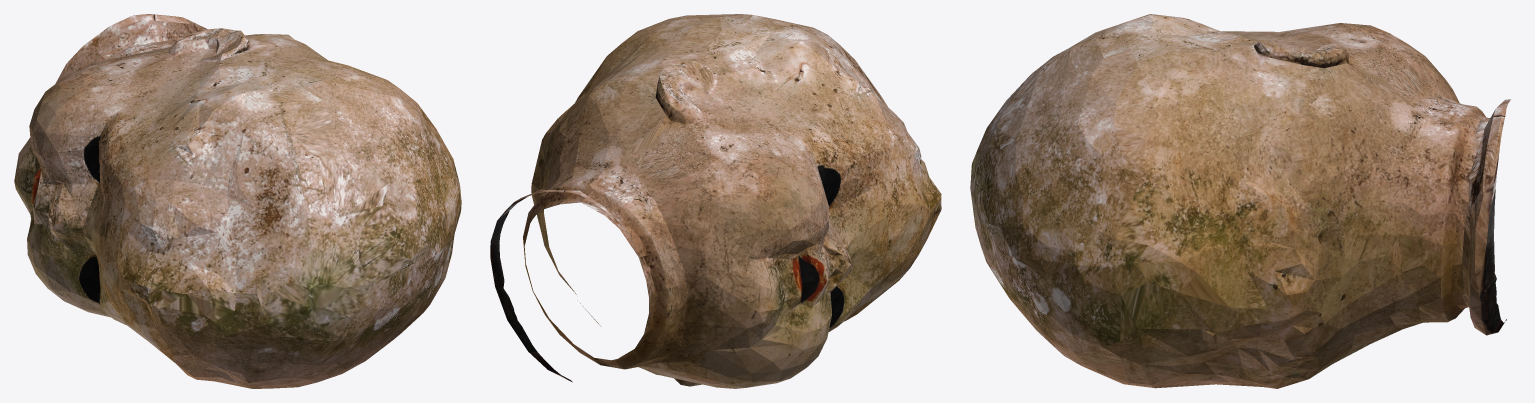
The model's file is dollhead.gltf.
The picture shows the model from 3 angles, left to right: view 1: azimuth 30°, elevation 25°; view 2: azimuth 150°, elevation 25°; view 3: azimuth 270°, elevation 25°; orthographic projection. The views are drawn at different scales.
Visible parts, largest first — view 1: Creepy_Doll_Head; view 2: Creepy_Doll_Head; view 3: Creepy_Doll_Head.
Boxes of the visible parts, x1=… form: Creepy_Doll_Head: x1=14, y1=14, x2=461, y2=388; Creepy_Doll_Head: x1=490, y1=14, x2=941, y2=388; Creepy_Doll_Head: x1=970, y1=14, x2=1510, y2=388.
Bounding box in the file's own units: 2.16 × 1.85 × 2.73.
1 material, 1 textured.
